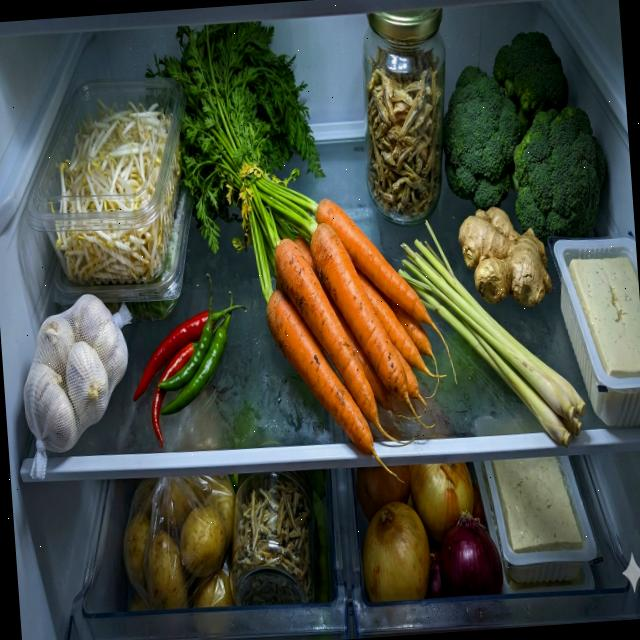anchovies: (358, 40, 456, 225), (226, 479, 315, 609)
bean_sprouts: (44, 91, 192, 290)
brocolli: (434, 26, 610, 255)
carrot: (258, 190, 464, 494)
chili: (125, 268, 257, 451)
garlic: (16, 289, 134, 456)
ginger: (455, 202, 554, 313)
lemongrass: (394, 209, 588, 457)
onion: (354, 457, 504, 604)
potato: (118, 474, 243, 614)
tofu: (492, 454, 584, 555), (567, 254, 640, 381)
